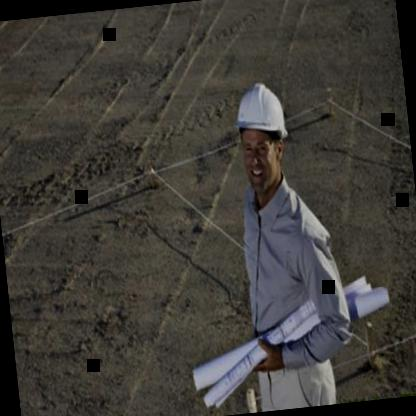helmet: (226, 68, 302, 200)
